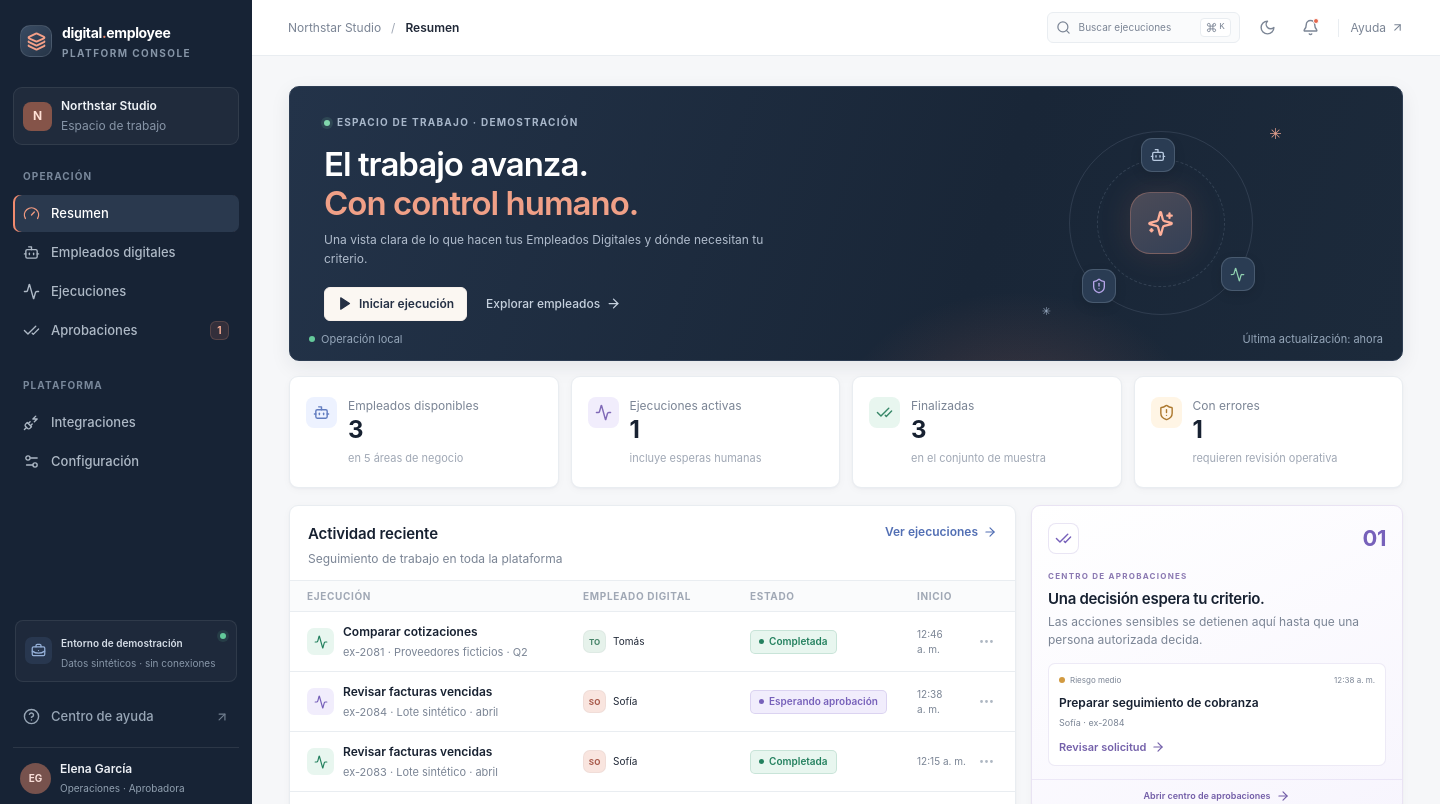
Scenario: Navegación de la consola › inicia desde el dashboard y completa una ejecución ALLOW simulada
The width and height of the screenshot is (1440, 804).
Click the button "Iniciar ejecución". click: x=396, y=304
box: [324,287,467,321]
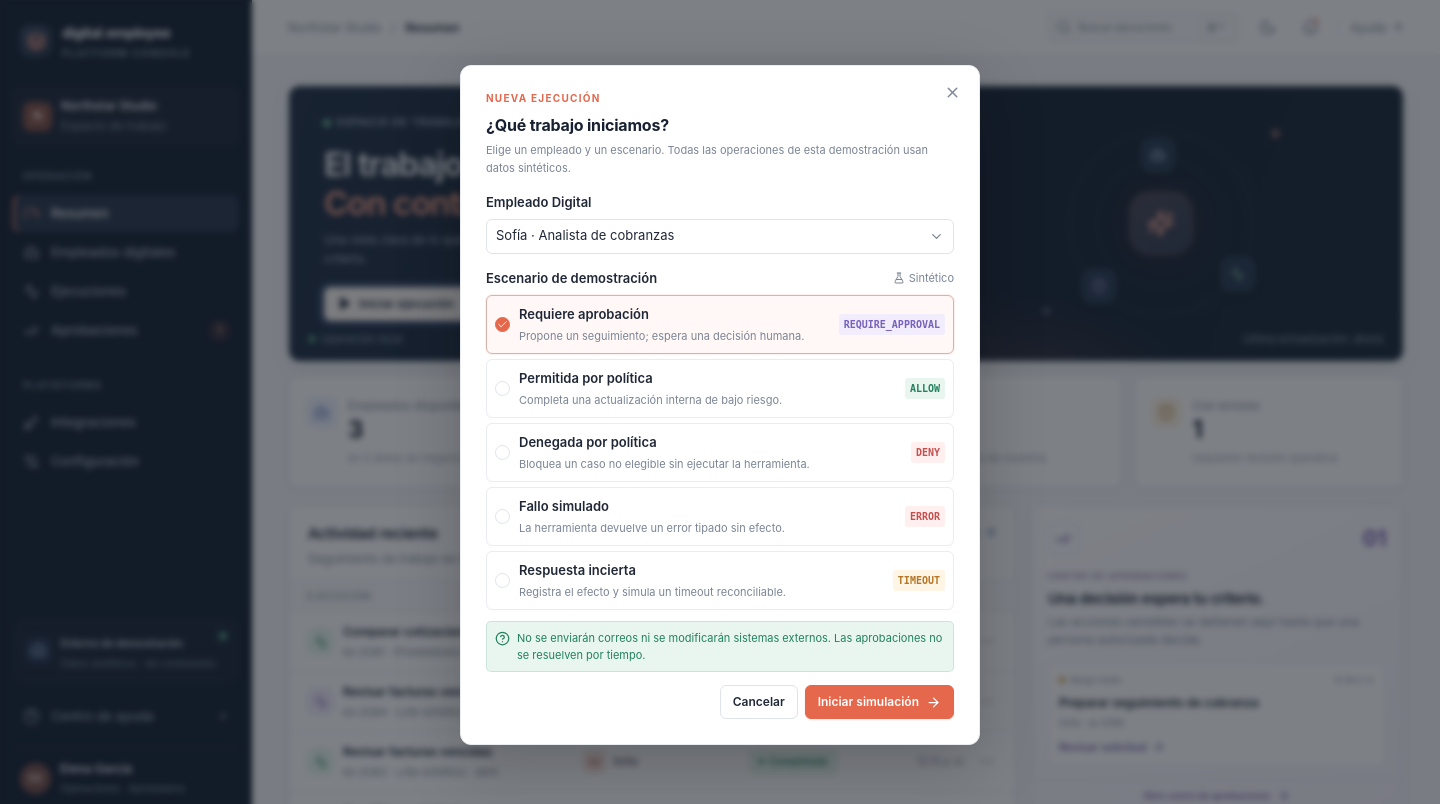
Click the button "Permitida por política". click: x=586, y=378
box: [486,359,954,418]
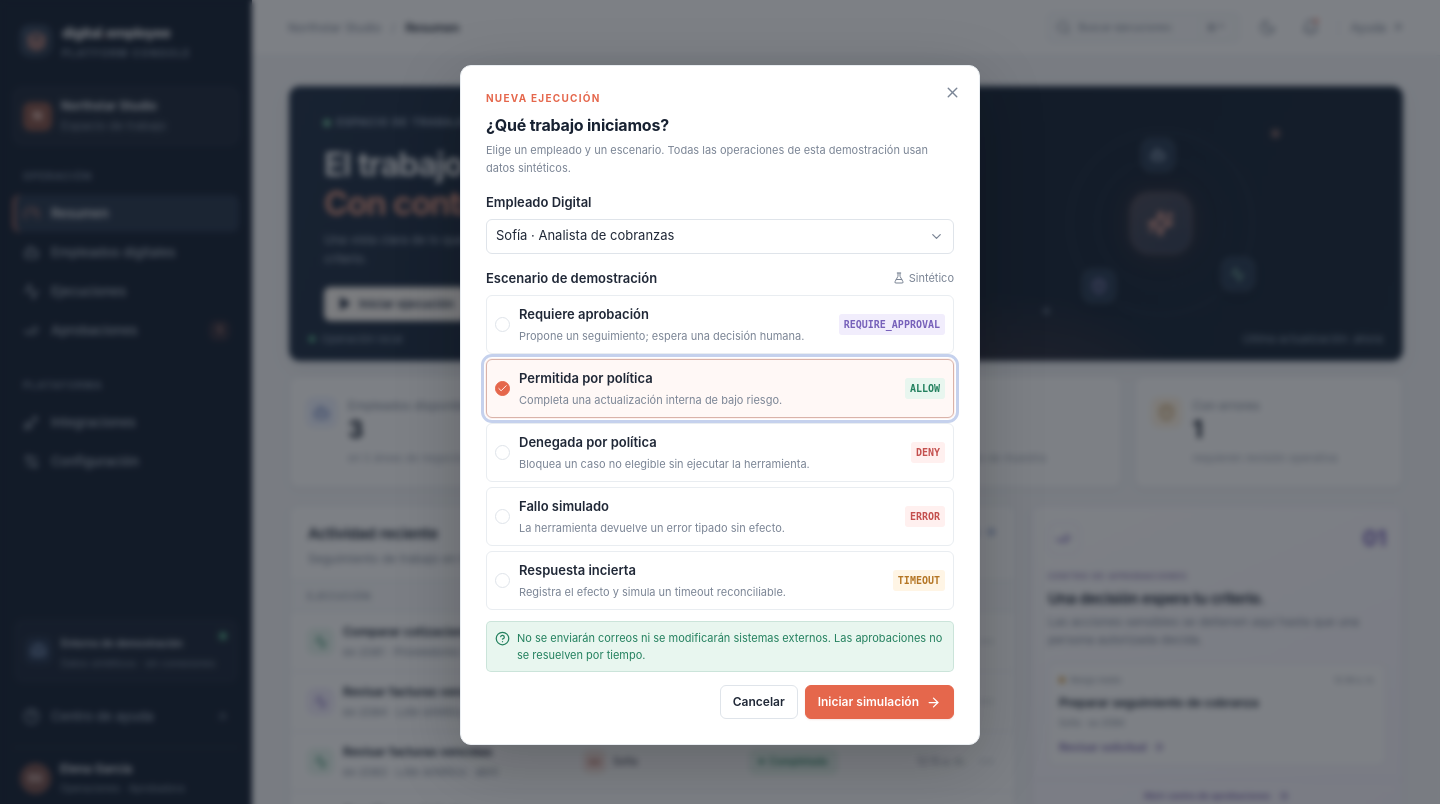
Click the button "Iniciar simulación". click: x=879, y=702
box: [805,685,954,719]
(page scrolled)
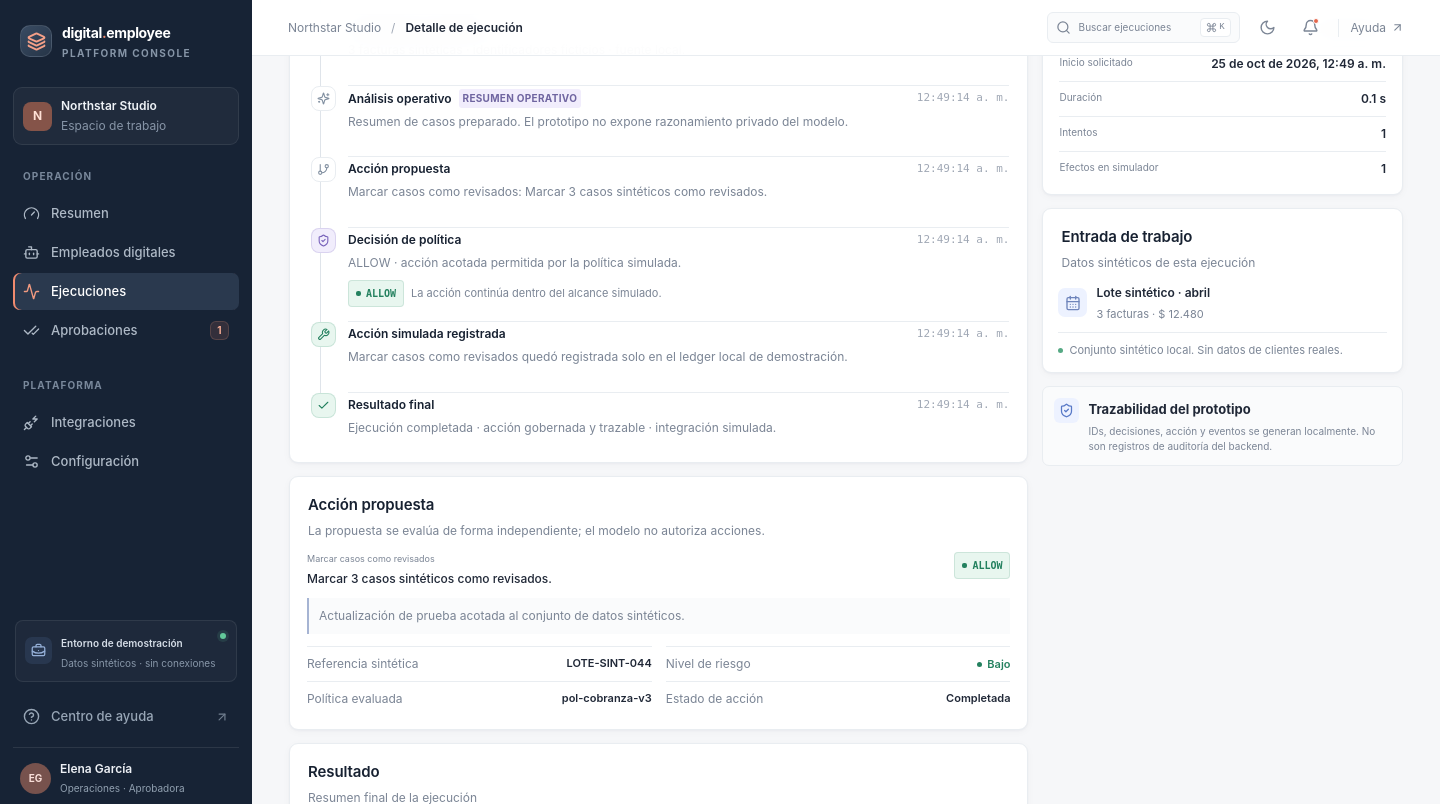
Now the text "Resultado final" is shown, box [348,396,434,414]
